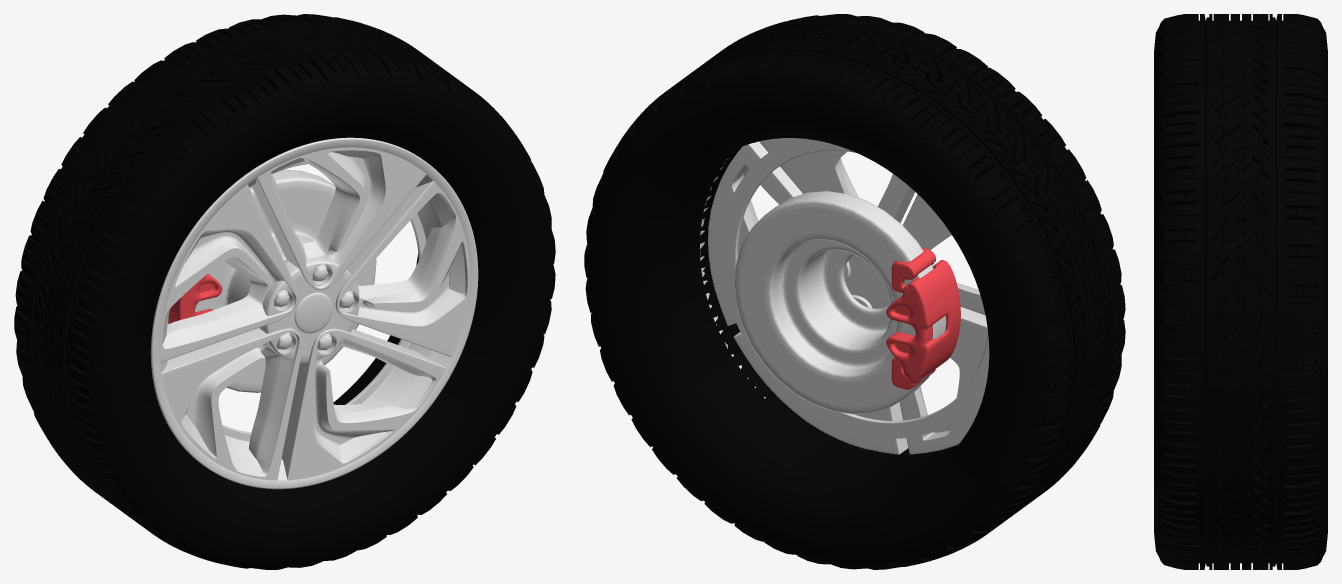
File: tire4.glb
The picture shows the model from 3 angles, left to right: view 1: azimuth 30°, elevation 25°; view 2: azimuth 150°, elevation 25°; view 3: azimuth 270°, elevation 25°; orthographic projection.
Parts seen in each view (by area): view 1: wheel_right_front_part02_Mesh.107, aluminio_Plane.002, Cylinder_Cylinder.007, wheel_right_front_part04_Mesh.109, center_Cylinder.009, wheel_right_front_part06_Mesh.111, wheel_right_front_part09_Mesh.114; view 2: wheel_right_front_part02_Mesh.107, wheel_right_front_part04_Mesh.109, aluminio_Plane.002, Cylinder_Cylinder.007, center_Cylinder.009; view 3: wheel_right_front_part02_Mesh.107.
Boxes of the visible parts, <box> form: wheel_right_front_part02_Mesh.107: <box>14,14,555,569</box>; aluminio_Plane.002: <box>160,147,470,480</box>; Cylinder_Cylinder.007: <box>150,137,478,489</box>; wheel_right_front_part04_Mesh.109: <box>168,169,376,392</box>; center_Cylinder.009: <box>259,257,359,362</box>; wheel_right_front_part06_Mesh.111: <box>294,292,332,333</box>; wheel_right_front_part09_Mesh.114: <box>274,264,354,350</box>; wheel_right_front_part02_Mesh.107: <box>584,14,1125,569</box>; wheel_right_front_part04_Mesh.109: <box>734,191,960,414</box>; aluminio_Plane.002: <box>708,138,987,454</box>; Cylinder_Cylinder.007: <box>700,138,989,438</box>; center_Cylinder.009: <box>845,255,889,308</box>; wheel_right_front_part02_Mesh.107: <box>1154,14,1327,569</box>.
Size of the model in its own units: 0.6462 by 0.6463 by 0.2021.
